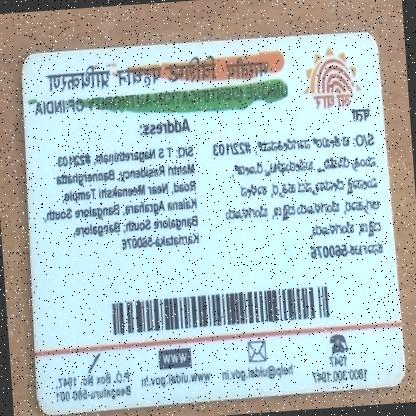aadhaar_card: (7, 16, 411, 415)
